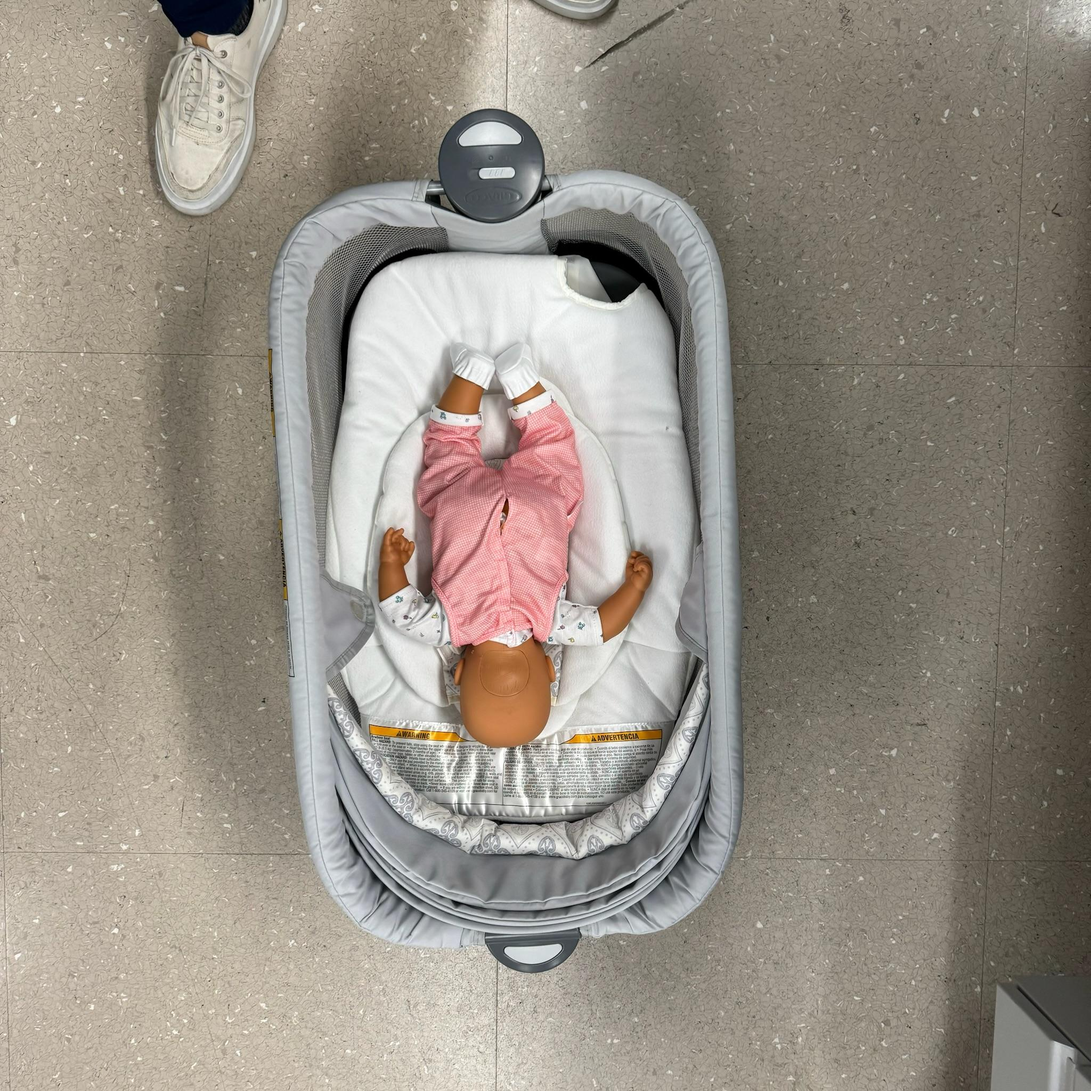baby: (369, 331, 653, 749)
